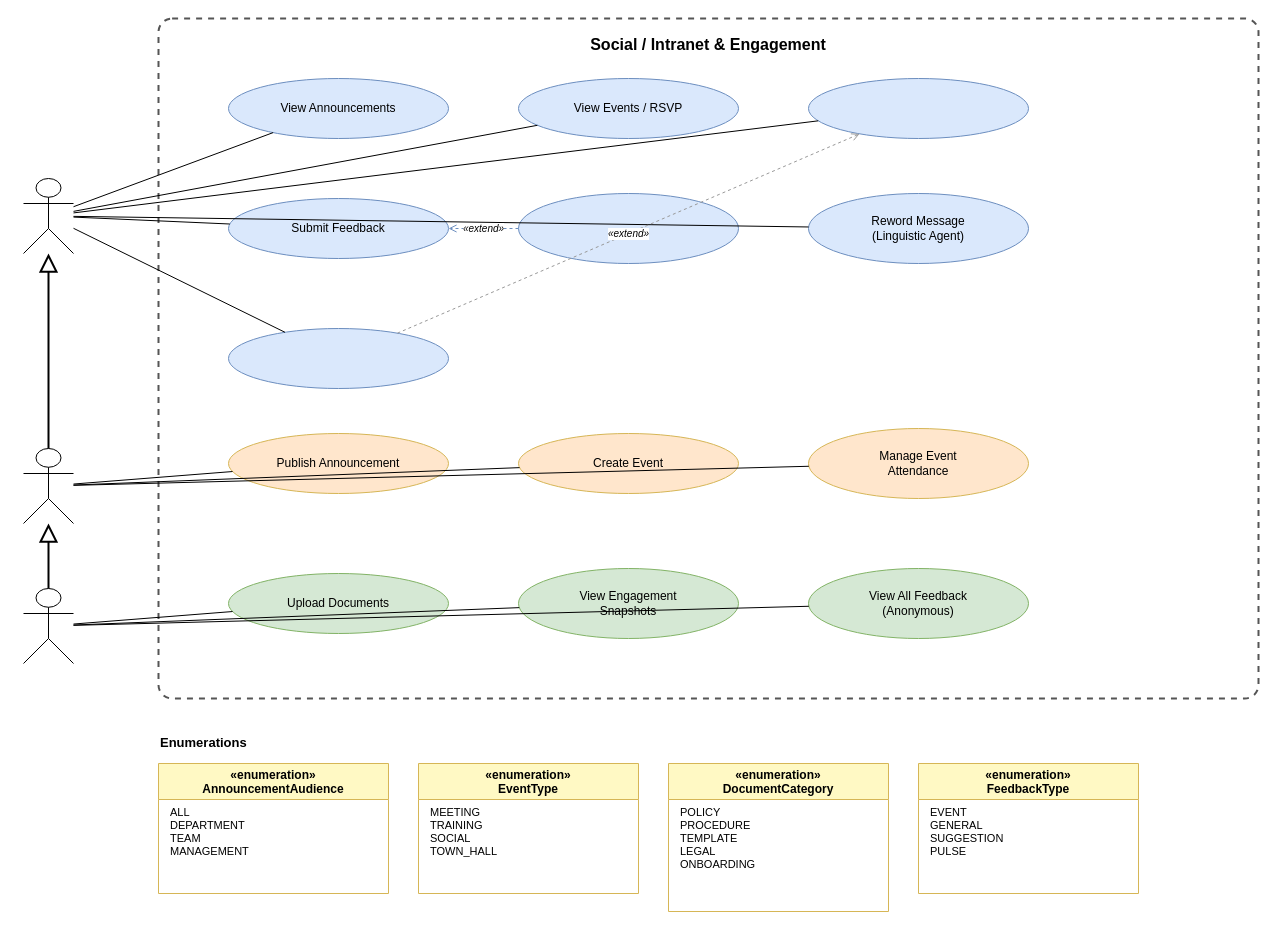
Image size: 1277x929. Some labels were removed from this diagram. The shapes that lost their labels are listed below. From the top down, each one's centre as x and y in pixels, then its label:
point 918,108: View Documents
point 48,216: Employee
point 628,228: Submit Anonymous Feedback
point 338,358: Download Document
point 48,486: Manager
point 48,626: HR Admin
